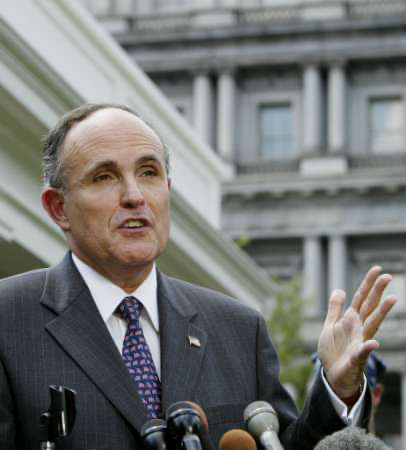Face: (61, 142, 176, 277)
